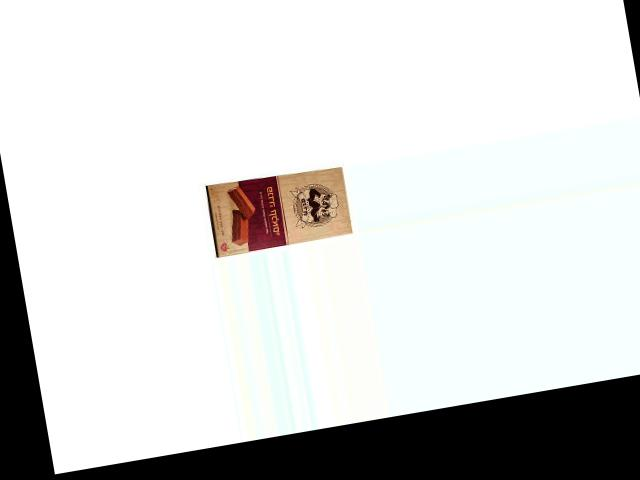chocolate: (204, 160, 353, 255)
